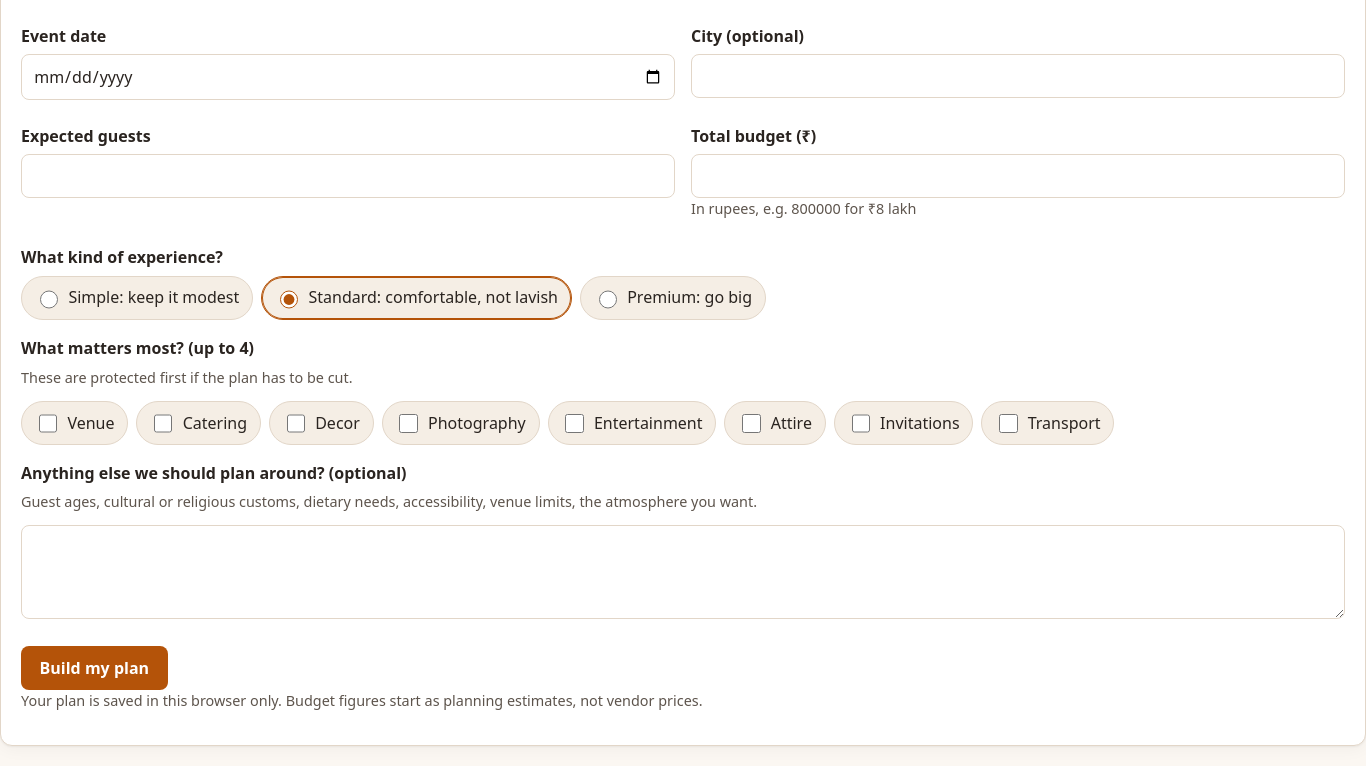
IntakeForm › caps priorities at four and frees the rest when one is unticked
This screenshot has width=1366, height=766.
(page scrolled)
Click the checkbox labelled "Venue" at (48, 423), box [39, 414, 57, 433]
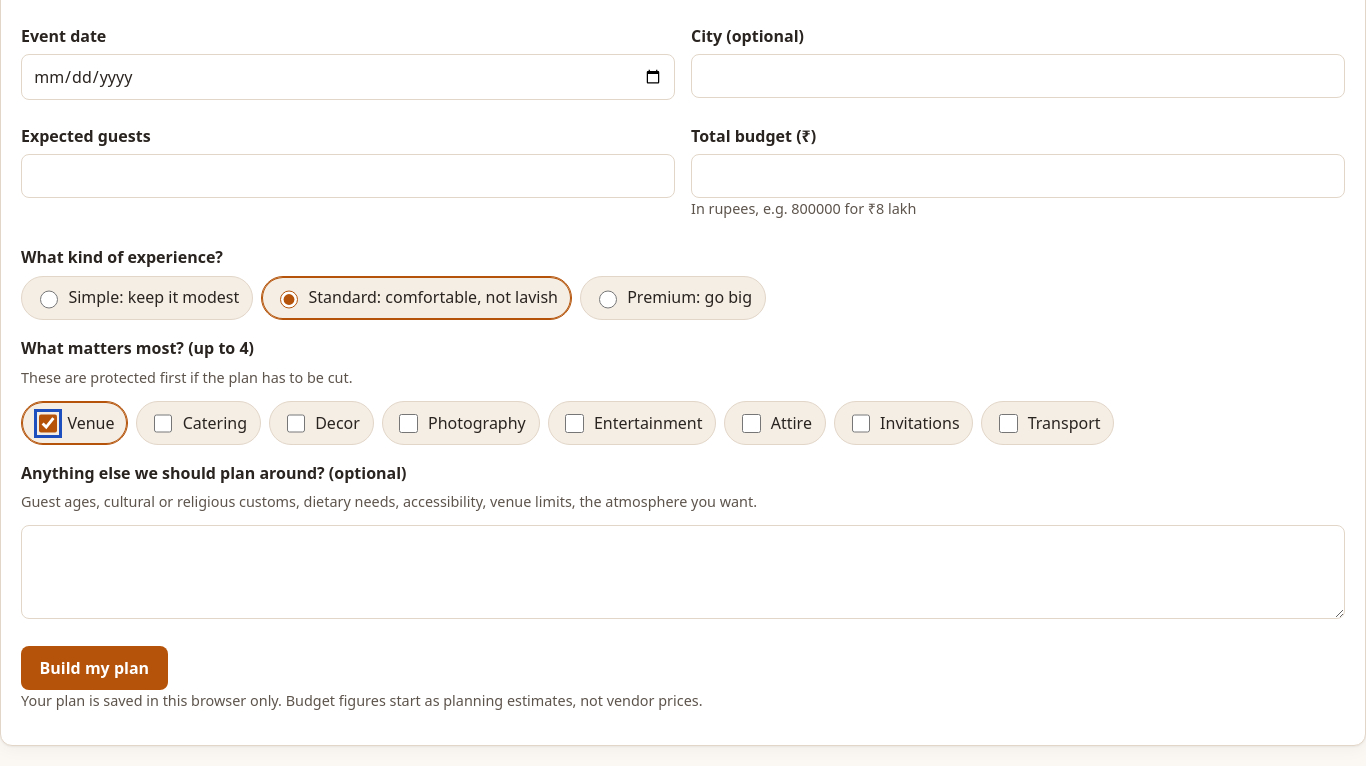
Click the checkbox labelled "Catering" at (163, 423), box [154, 414, 172, 433]
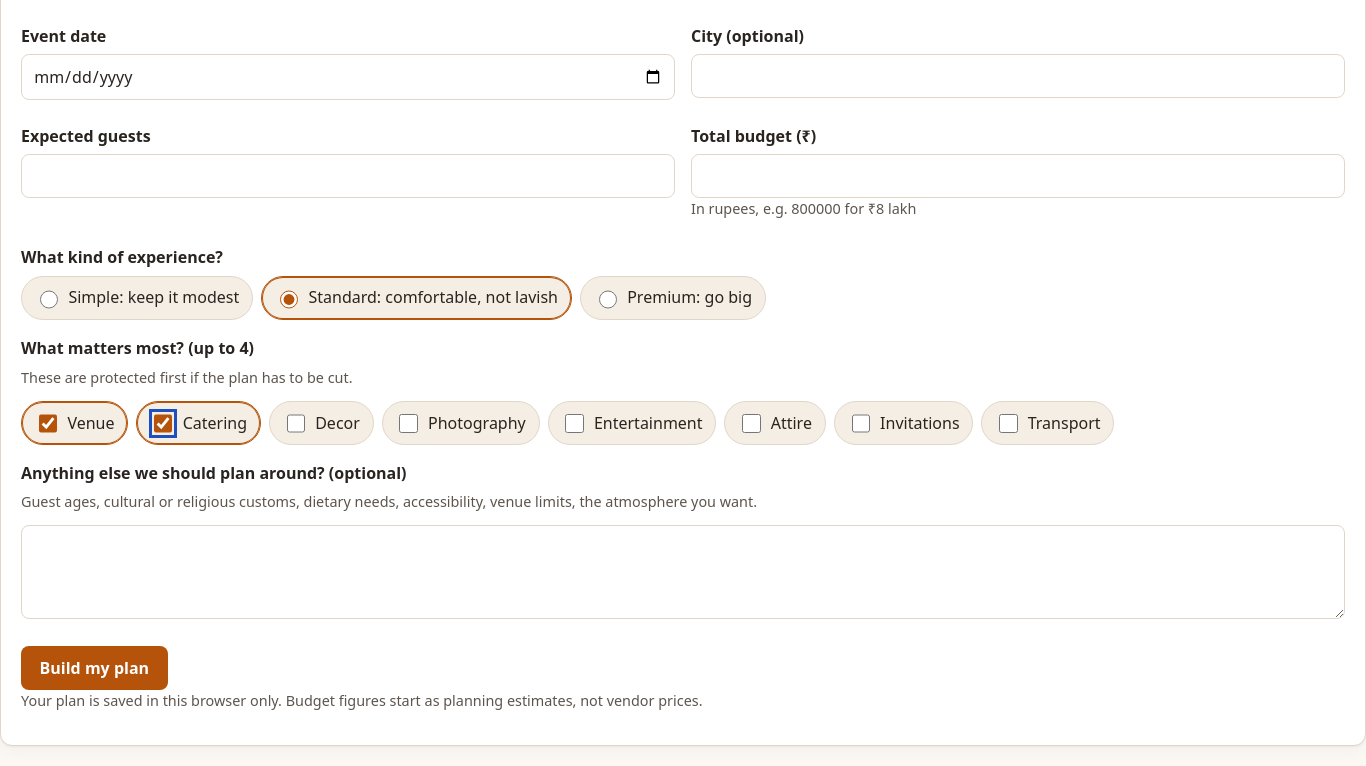
Click the checkbox labelled "Decor" at (296, 423), box [287, 414, 305, 433]
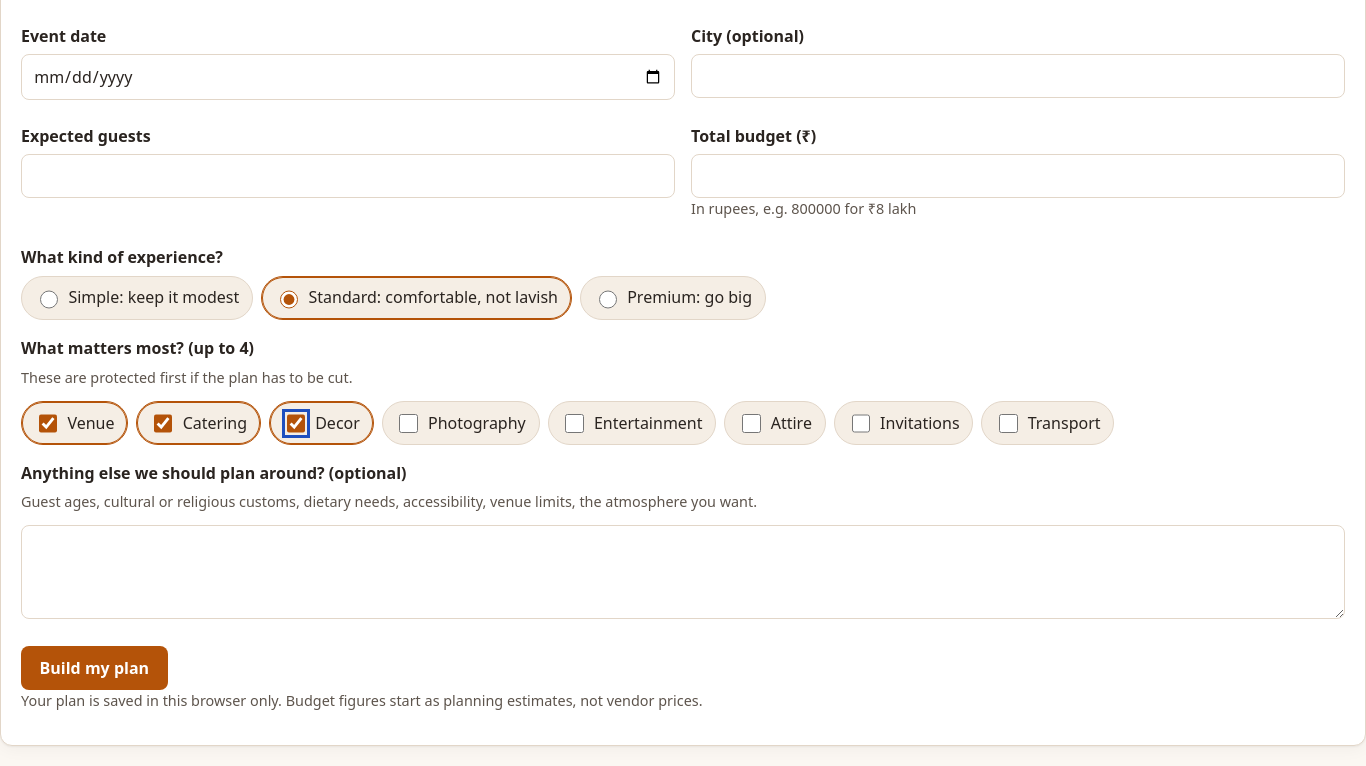
Click the checkbox labelled "Photography" at (409, 423), box [400, 414, 418, 433]
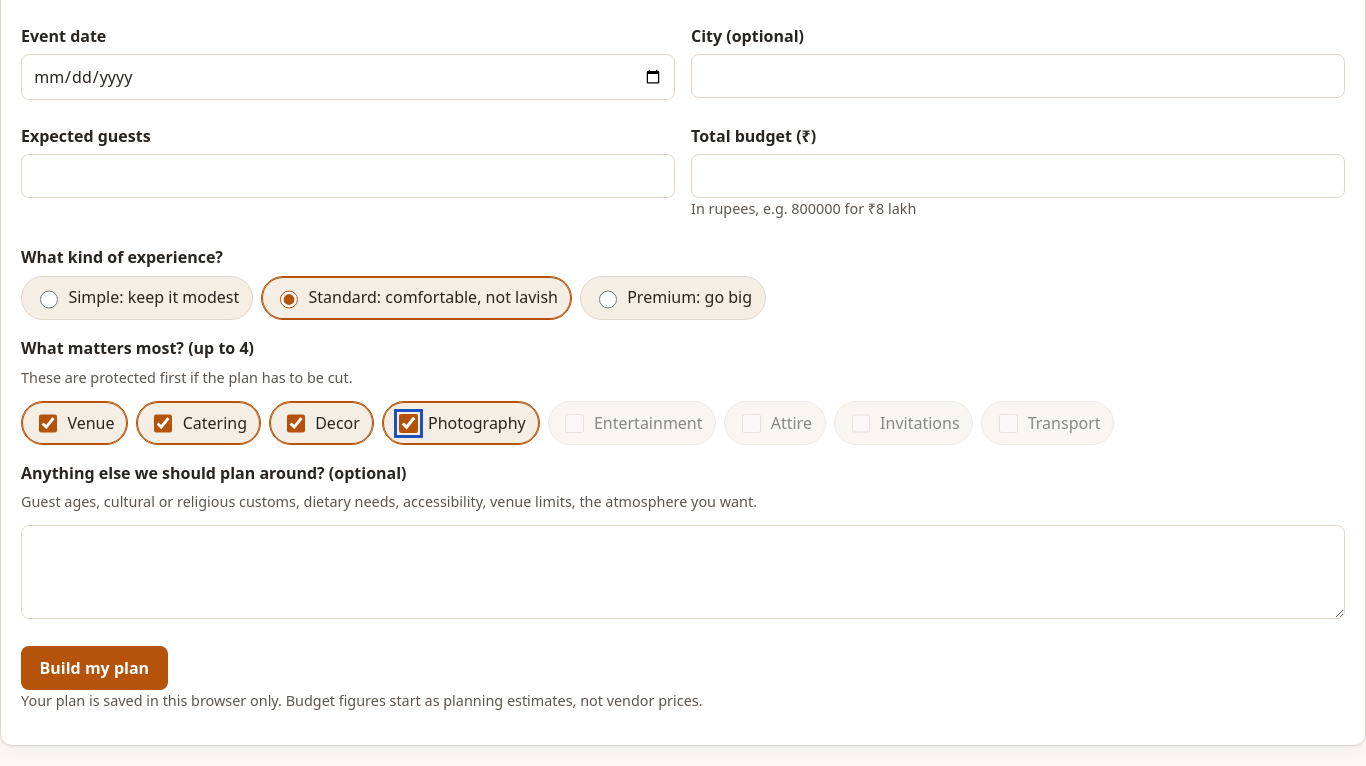
Click the checkbox labelled "Venue" at (48, 423), box [39, 414, 57, 433]
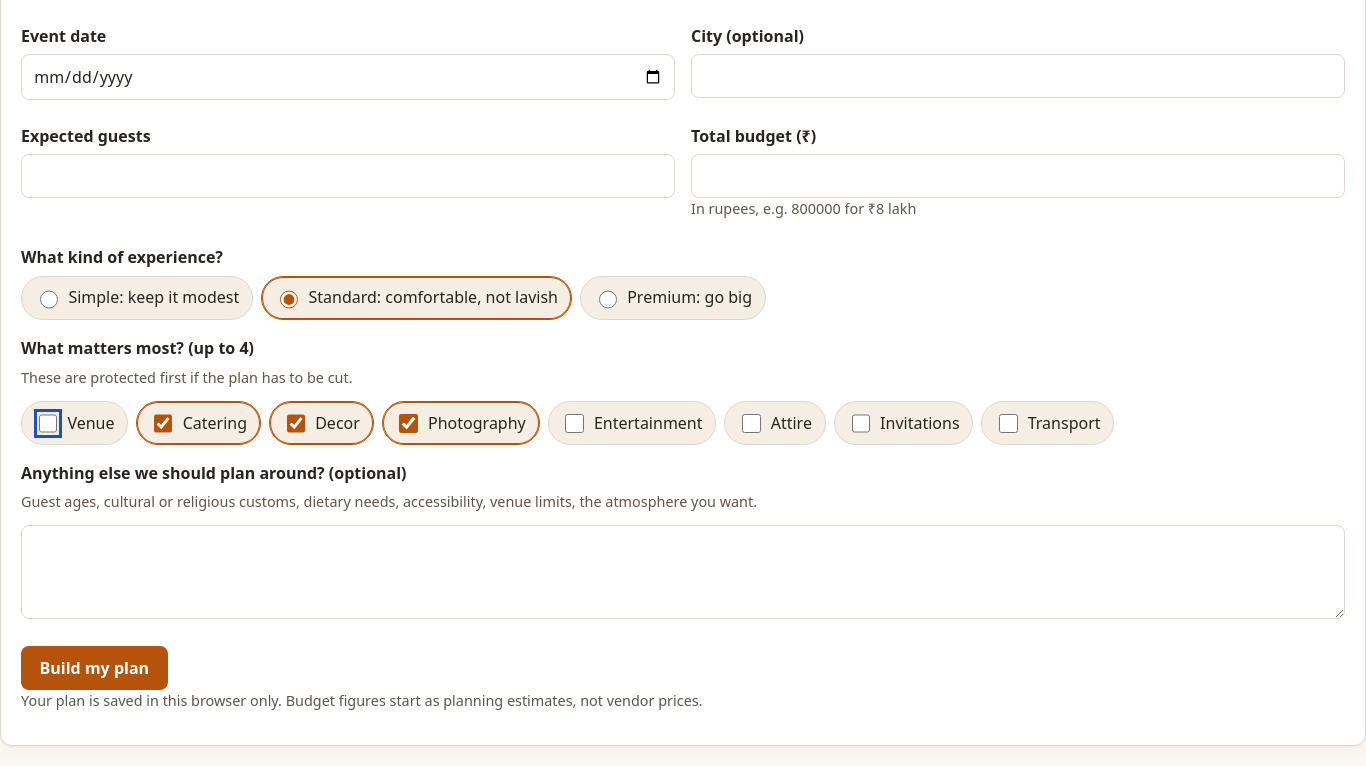
Expected: the checkbox labelled "Attire" is enabled, [742, 414, 760, 433]
